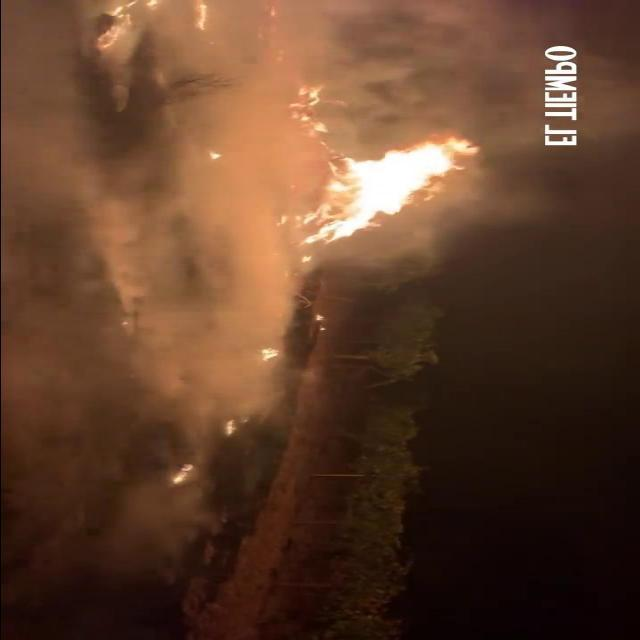Fire: (284, 138, 478, 246), (98, 1, 158, 51), (290, 84, 334, 132), (196, 5, 214, 32), (171, 462, 193, 483), (259, 348, 281, 362), (222, 418, 236, 436), (204, 150, 224, 158), (300, 254, 312, 264), (315, 314, 329, 321)
